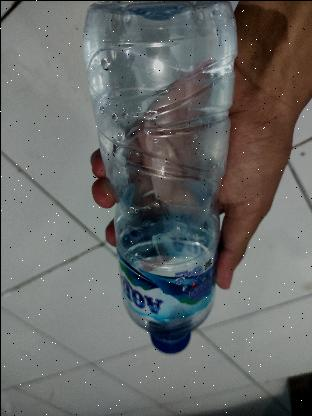Plastic Bottle: (71, 0, 249, 368)
